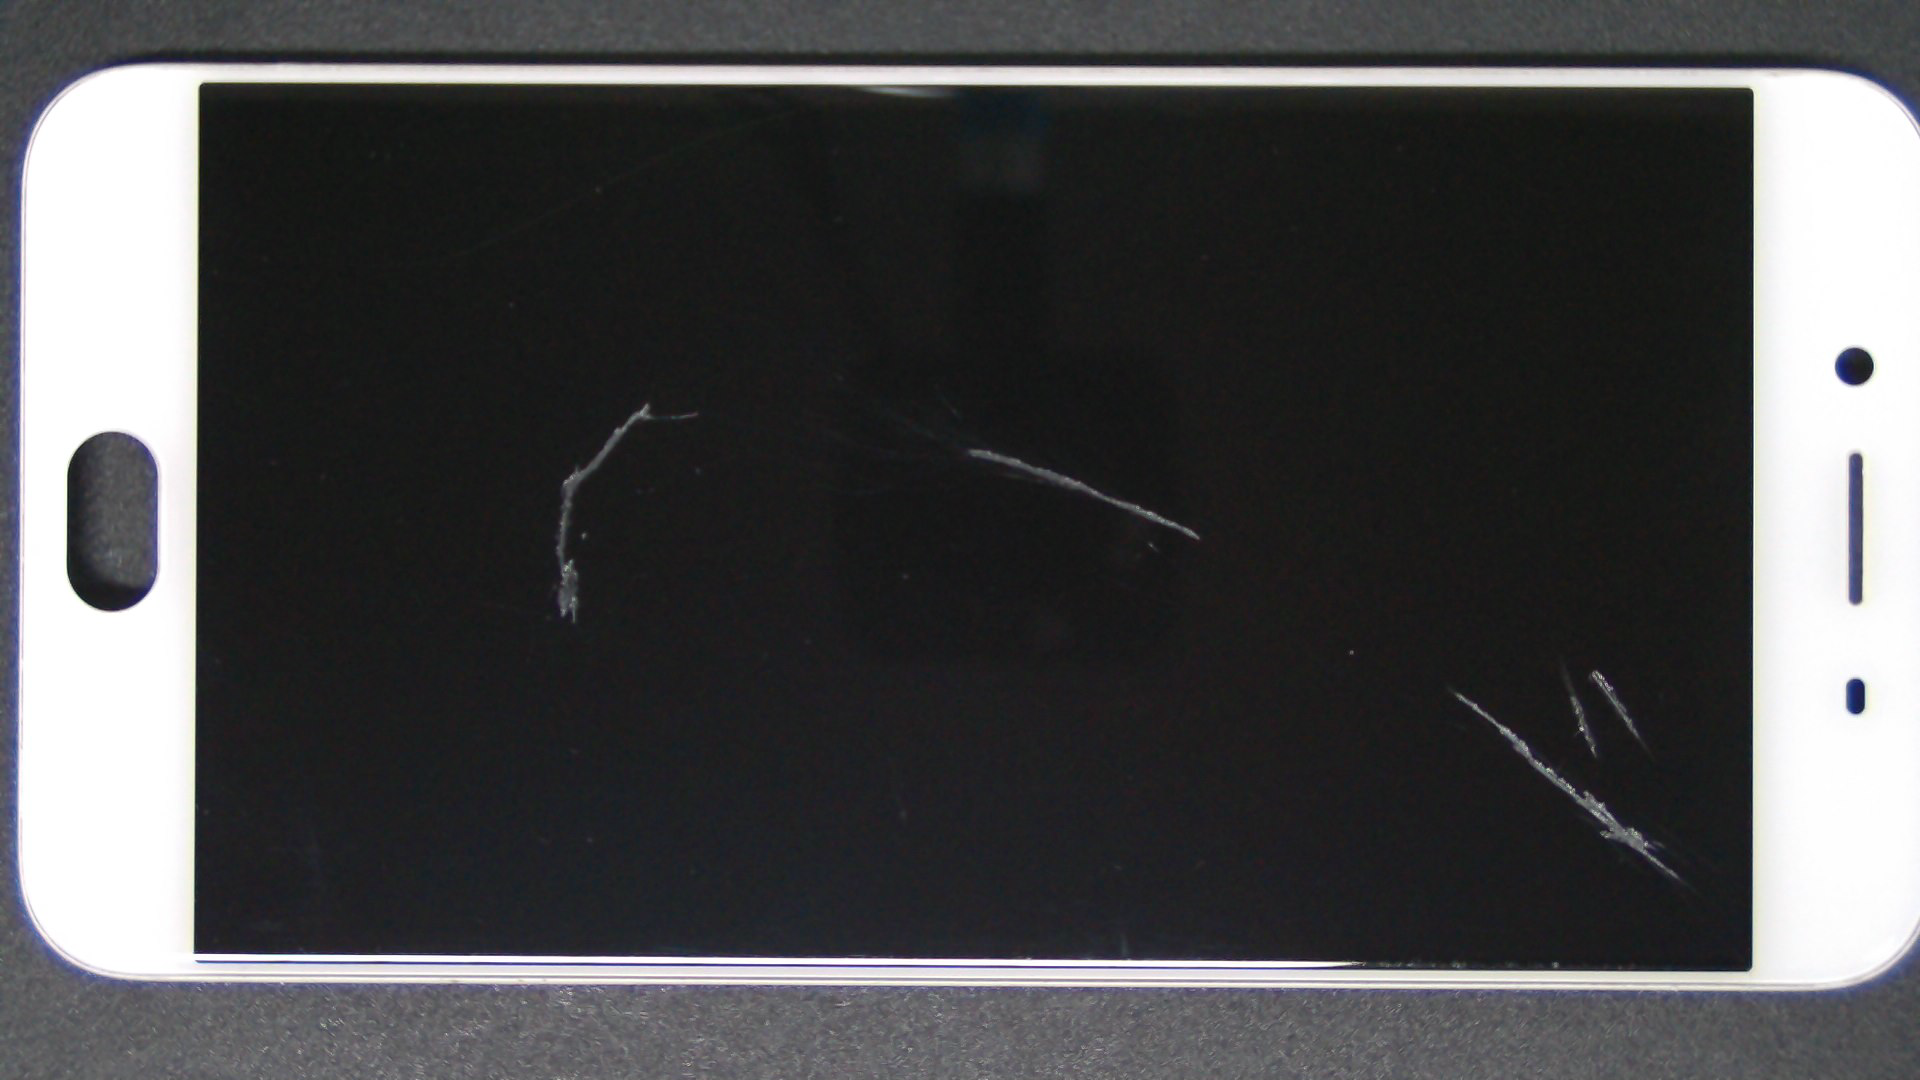defect: (1455, 690, 1679, 880), (554, 401, 698, 622), (967, 447, 1200, 541), (1590, 669, 1644, 745), (1563, 669, 1597, 760)
